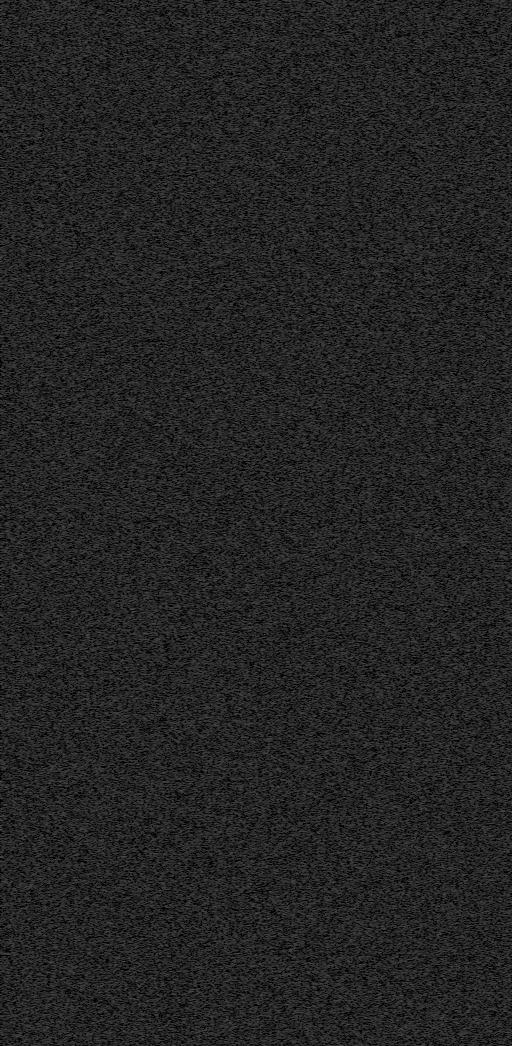wv_cw: (209, 0, 217, 1046), (208, 0, 213, 1045)
wv_usb: (2, 481, 8, 681), (3, 46, 8, 210), (2, 682, 8, 795), (3, 256, 8, 385), (2, 796, 8, 896), (29, 232, 33, 342), (3, 897, 8, 969), (29, 609, 33, 681), (28, 366, 33, 413), (3, 398, 7, 445), (29, 952, 33, 985), (28, 838, 33, 863), (29, 537, 33, 566), (3, 1023, 8, 1045), (29, 584, 33, 608), (3, 236, 8, 255), (29, 343, 33, 365), (3, 24, 7, 43), (29, 1008, 33, 1026), (3, 985, 8, 999), (3, 970, 8, 984), (3, 463, 7, 480), (29, 567, 33, 583), (29, 1027, 33, 1043), (29, 18, 33, 34), (29, 687, 33, 702), (3, 211, 7, 224), (29, 41, 32, 57), (29, 5, 33, 17), (3, 5, 7, 17), (29, 922, 33, 933), (29, 899, 33, 910), (29, 869, 33, 880), (29, 433, 33, 444), (29, 414, 33, 425), (29, 103, 33, 114), (3, 386, 7, 397), (29, 124, 32, 138), (3, 1000, 8, 1008), (3, 225, 7, 235), (3, 446, 7, 455), (29, 794, 32, 805), (29, 63, 33, 71), (29, 989, 32, 999), (29, 881, 32, 890), (29, 527, 32, 535), (29, 195, 32, 203), (29, 183, 33, 189), (29, 95, 32, 102), (29, 84, 32, 91), (29, 1000, 32, 1007), (29, 807, 32, 813), (29, 894, 33, 898), (3, 456, 7, 460), (29, 938, 32, 943), (29, 718, 32, 723), (29, 471, 32, 476), (29, 168, 32, 173), (29, 144, 32, 149), (29, 35, 32, 40), (29, 934, 33, 937), (29, 833, 33, 836), (29, 827, 32, 831), (29, 727, 32, 731), (29, 709, 32, 713), (29, 682, 32, 686), (29, 521, 32, 525), (409, 968, 413, 971), (29, 205, 32, 209), (409, 366, 413, 369), (29, 155, 32, 159), (29, 119, 32, 123), (29, 75, 32, 79), (3, 18, 7, 21), (29, 948, 32, 951), (29, 918, 32, 921), (29, 911, 32, 914), (29, 216, 32, 219), (29, 174, 32, 177), (29, 160, 32, 163), (29, 150, 32, 153), (29, 80, 32, 83), (29, 58, 32, 61)
wv_wbfm: (217, 0, 235, 865), (247, 0, 264, 737), (248, 756, 264, 1045), (218, 869, 235, 1045)
